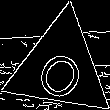O_NE: (29, 34, 91, 101)
